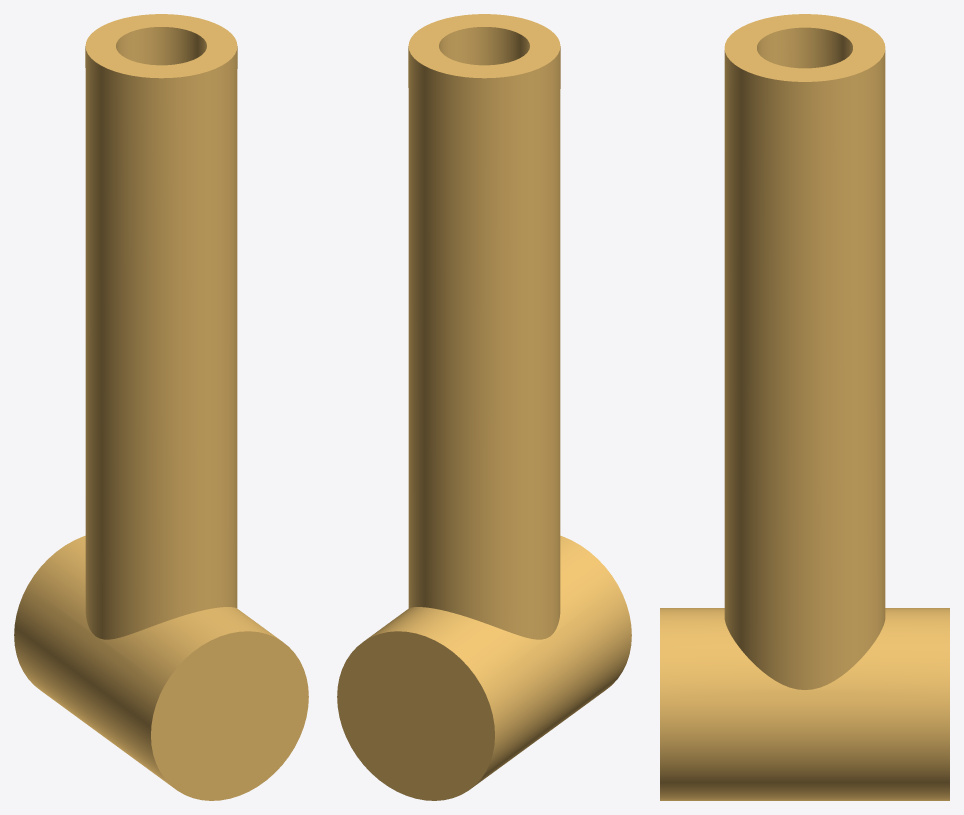
Rendered from EVX_14_steering_rod.dae.
3 renders of one model, left to right at view 1: azimuth 30°, elevation 25°; view 2: azimuth 150°, elevation 25°; view 3: azimuth 270°, elevation 25°, orthographic. The views are drawn at different scales.
Parts seen in each view (by area): view 1: ID2; view 2: ID2; view 3: ID2.
Boxes of the visible parts, x1=… form: ID2: x1=14, y1=14, x2=308, y2=800; ID2: x1=337, y1=14, x2=631, y2=800; ID2: x1=660, y1=14, x2=949, y2=800.
Size of the model in its own units: 0.06 by 0.09 by 0.255.
